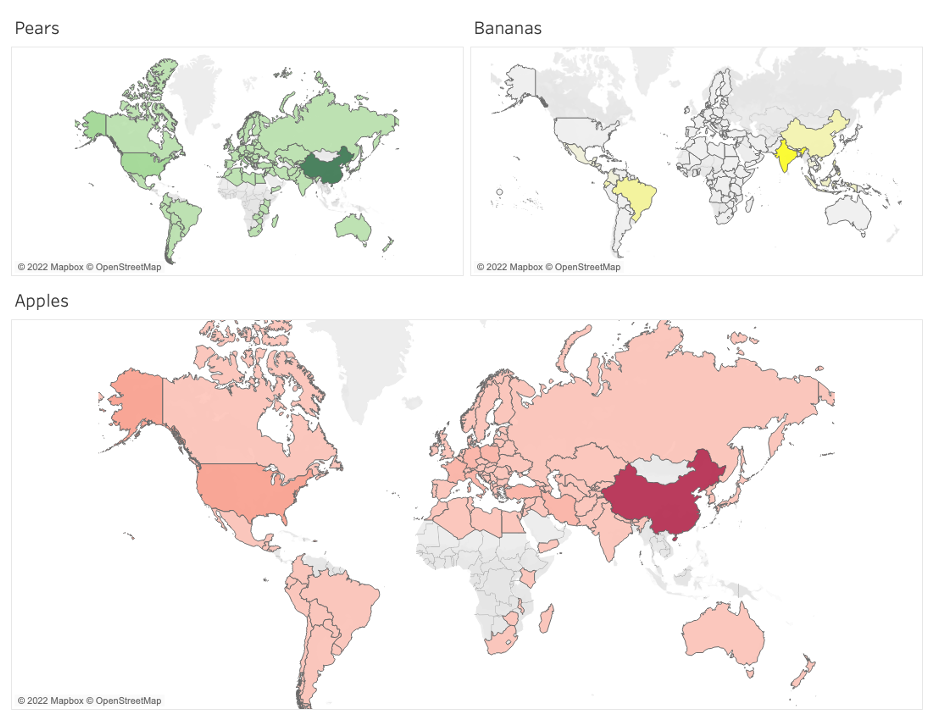

This screenshot's page, from the dashboard's own definition file:
{"tool":"tableau","page":{"name":"Dashboard 1","canvas":[1000,800],"ordinal":0},"visuals":[{"type":"worksheet","title":"Sheet 1","mark":"Automatic","box":[8,8,412,392]},{"type":"worksheet","title":"Sheet 2","mark":"Automatic","box":[420,8,412,392]},{"type":"legend","title":"Sheet 1","param":"[federated.03hly3v07el2rh11x92z017xl9qy].[sum:Value:qk]","box":[832,8,160,65]},{"type":"legend","title":"Sheet 3","param":"[federated.12kz6hl0di9bla13ns8v718199oh].[sum:Value:qk]","box":[832,73,160,65]},{"type":"legend","title":"Sheet 2","param":"[federated.1reccri1rk7jmg1g1v2h8029k3qm].[sum:Value:qk]","box":[832,138,160,65]},{"type":"worksheet","title":"Sheet 3","mark":"Automatic","box":[8,400,824,392]}]}

Visuals, with their boxes on the page's 1000x800 design canvas (x1, y1, x2, y2). These are canvas units, not pixel positions in the 933x720 screenshot, which may show the page scaled, cropped or inside an application window:
"Sheet 1" worksheet: left=8, top=8, right=420, bottom=400
"Sheet 2" worksheet: left=420, top=8, right=832, bottom=400
"Sheet 1" legend: left=832, top=8, right=992, bottom=73
"Sheet 3" legend: left=832, top=73, right=992, bottom=138
"Sheet 2" legend: left=832, top=138, right=992, bottom=203
"Sheet 3" worksheet: left=8, top=400, right=832, bottom=792
